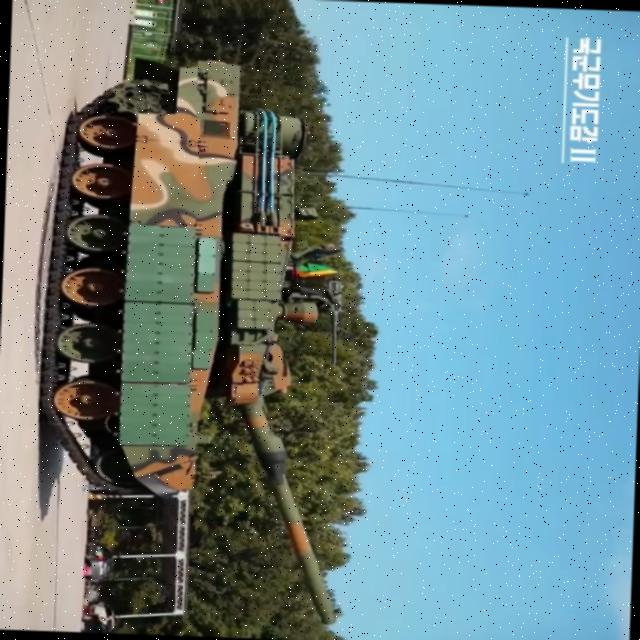korea tank: (28, 51, 366, 628)
